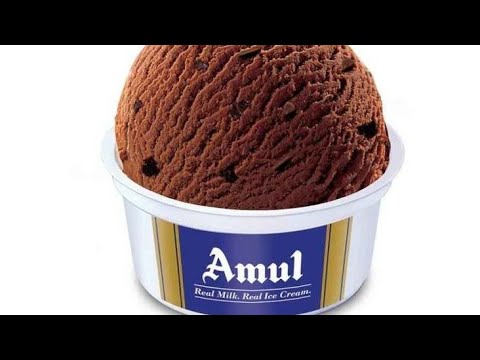Amul: (193, 245, 311, 288)
